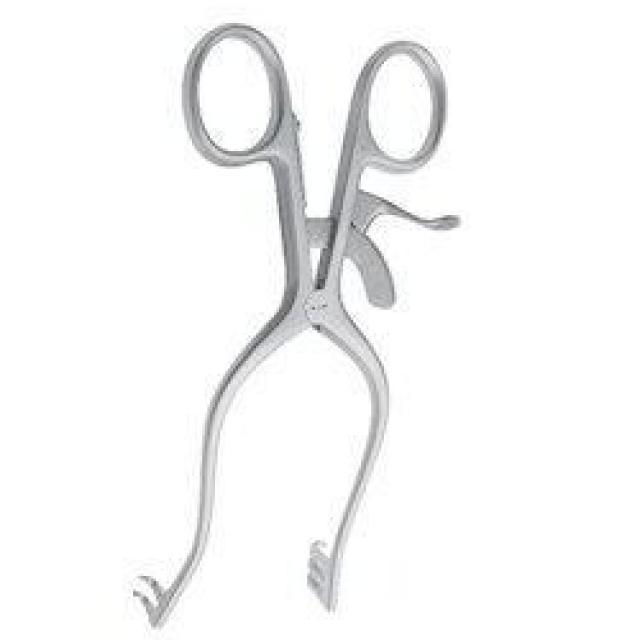Weitlaner: (130, 18, 458, 635)
